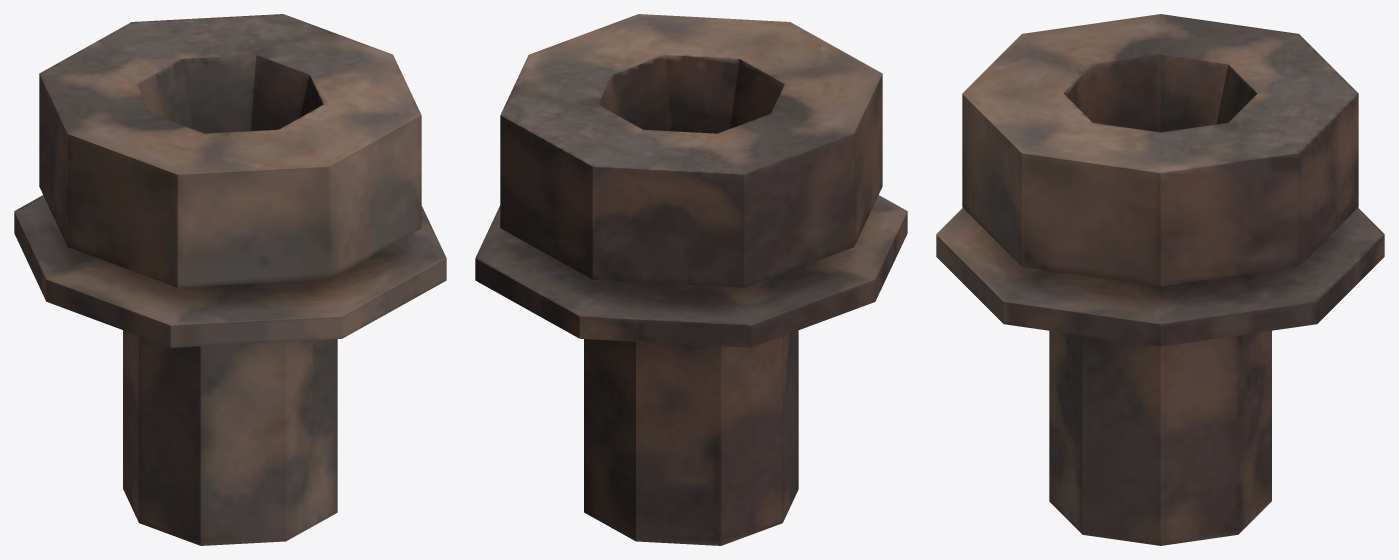
Rendered from SM_ShortBot_Bolt.FBX.
3 views of the same model, side by side, from view 1: azimuth 30°, elevation 25°; view 2: azimuth 150°, elevation 25°; view 3: azimuth 270°, elevation 25° (orthographic).
Parts seen in each view (by area): view 1: SM_ShortBot_Bolt; view 2: SM_ShortBot_Bolt; view 3: SM_ShortBot_Bolt.
Boxes of the visible parts, x1,y1,x2,y2 form: SM_ShortBot_Bolt: [14, 14, 446, 545]; SM_ShortBot_Bolt: [475, 14, 907, 545]; SM_ShortBot_Bolt: [936, 14, 1384, 545].
Bounding box in the file's own units: 3.11 × 3.28 × 3.28.
